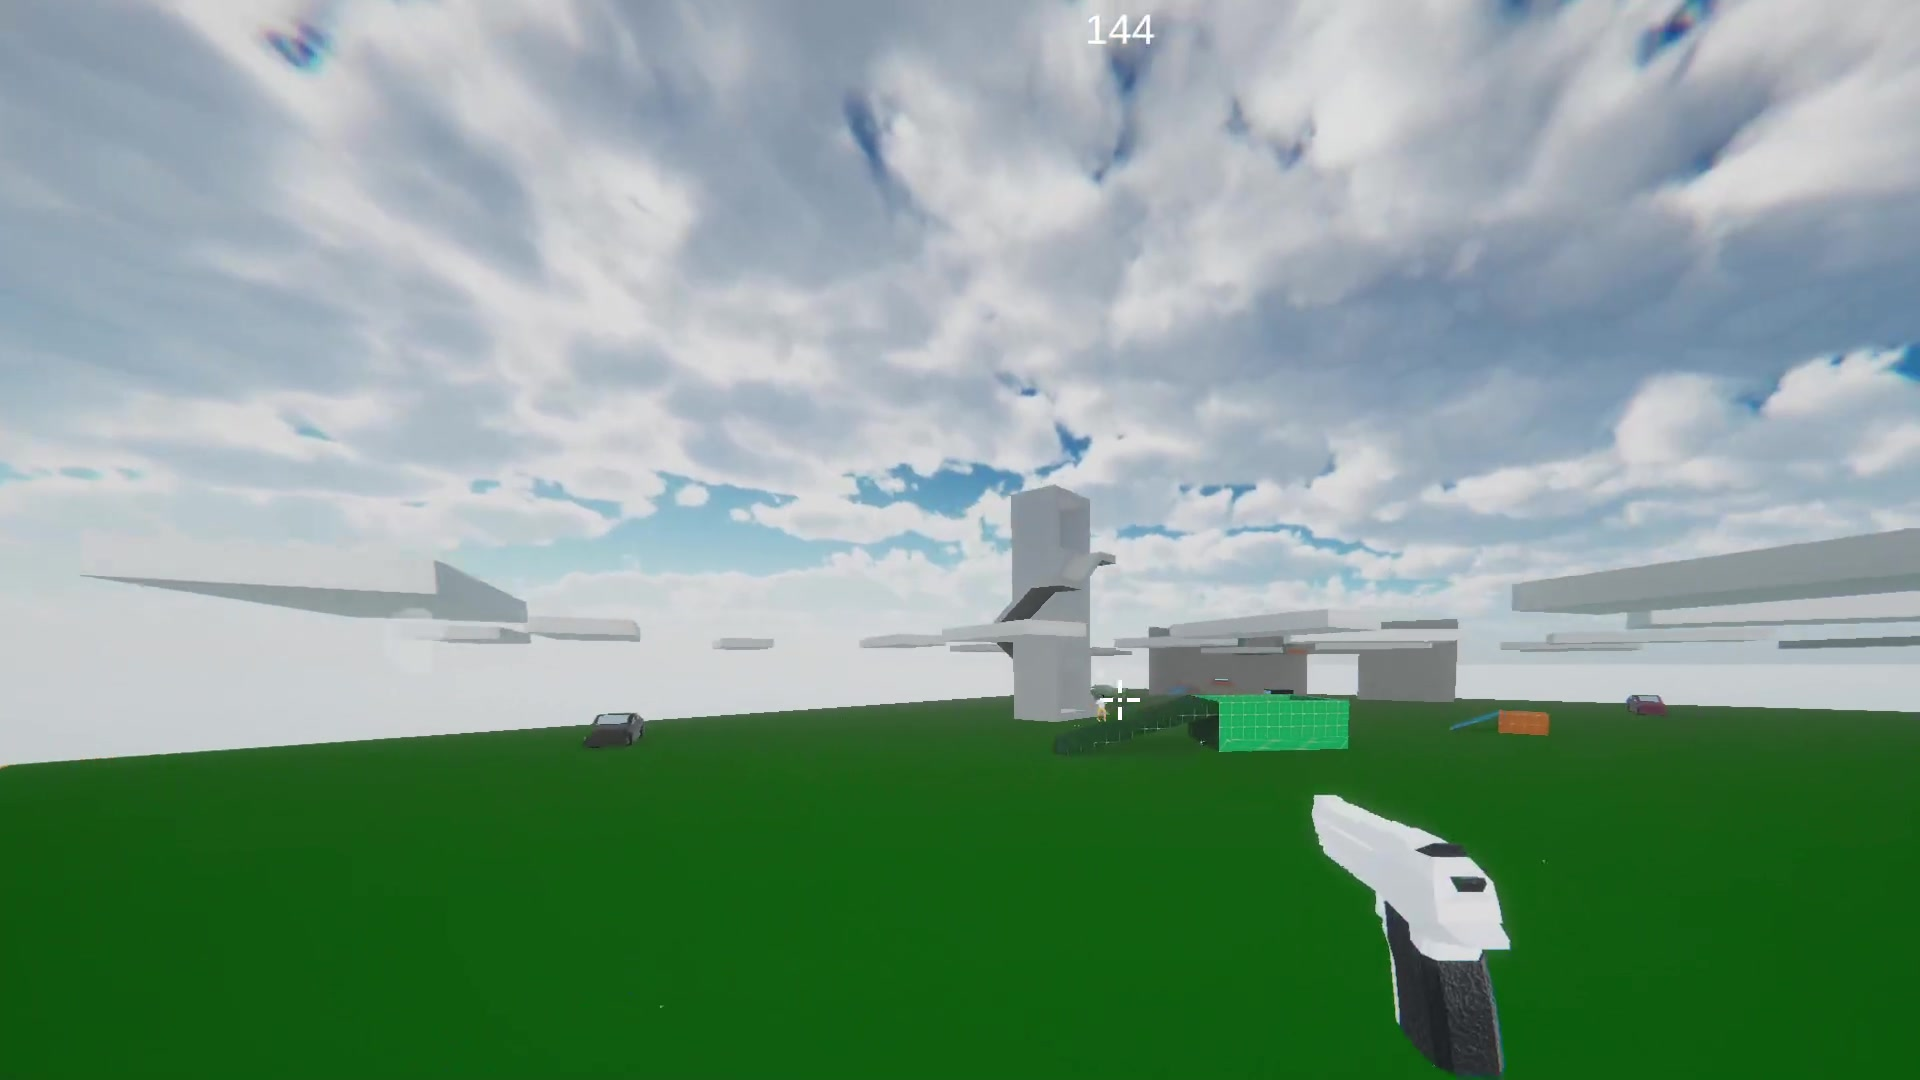human: (1088, 692, 1108, 726)
